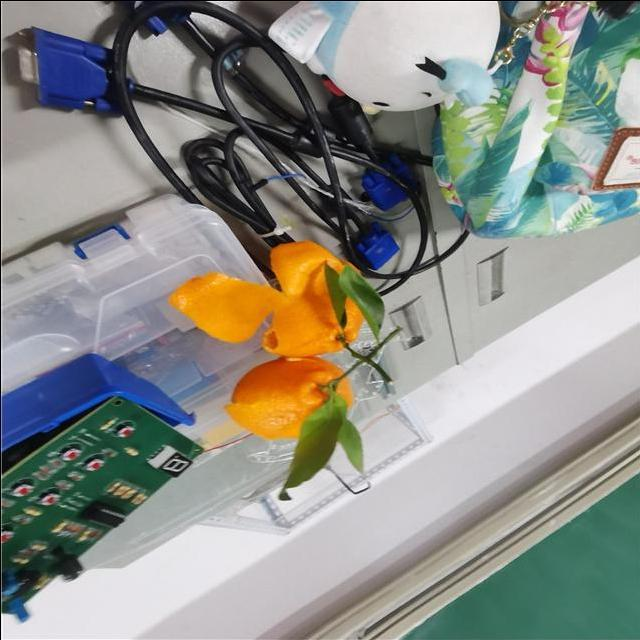orange peel: (165, 232, 369, 356), (227, 356, 356, 439)
